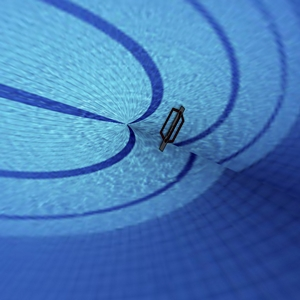submarine: (146, 96, 195, 159)
